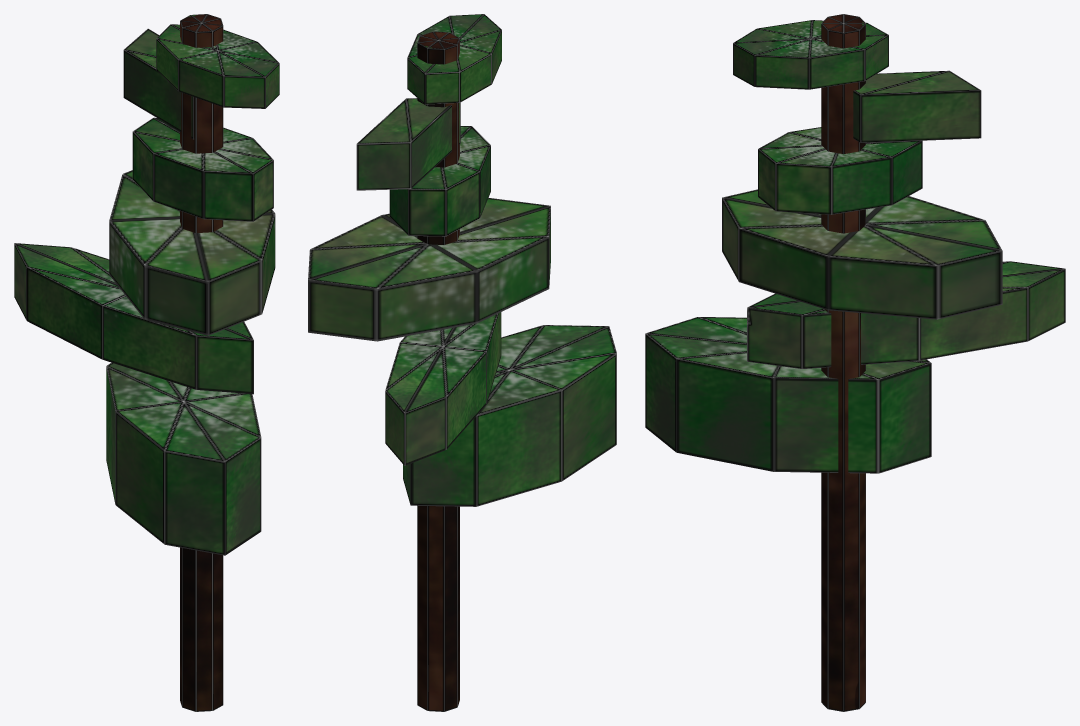
The model's file is TREE_3.fbx.
The picture shows the model from 3 angles, left to right: view 1: azimuth 30°, elevation 25°; view 2: azimuth 150°, elevation 25°; view 3: azimuth 270°, elevation 25°; orthographic projection. The views are drawn at different scales.
Visible parts, largest first — view 1: pCylinder15, pCylinder13, pCylinder14, trunk2, pCylinder17, pCylinder18, pCylinder16; view 2: pCylinder13, pCylinder15, pCylinder14, trunk2, pCylinder16, pCylinder17, pCylinder18; view 3: pCylinder15, pCylinder13, trunk2, pCylinder14, pCylinder17, pCylinder16, pCylinder18.
Part boxes in pixels (x1,y1,x2,y2): pCylinder15: [106, 362, 261, 555]; pCylinder13: [109, 170, 275, 335]; pCylinder14: [14, 243, 253, 394]; trunk2: [180, 14, 223, 711]; pCylinder17: [132, 117, 273, 221]; pCylinder18: [156, 24, 279, 108]; pCylinder16: [123, 28, 194, 139]; pCylinder13: [308, 198, 550, 341]; pCylinder15: [403, 325, 616, 506]; pCylinder14: [385, 312, 501, 465]; trunk2: [417, 31, 459, 711]; pCylinder16: [356, 98, 460, 190]; pCylinder17: [389, 126, 490, 236]; pCylinder18: [407, 14, 501, 104]; pCylinder15: [645, 317, 931, 473]; pCylinder13: [722, 189, 1002, 319]; trunk2: [821, 14, 865, 711]; pCylinder14: [747, 261, 1065, 368]; pCylinder17: [758, 127, 922, 214]; pCylinder16: [853, 70, 981, 142]; pCylinder18: [733, 20, 888, 89].
Bounding box in the file's own units: 3 × 10 × 5.61.
2 materials, 2 textured.
